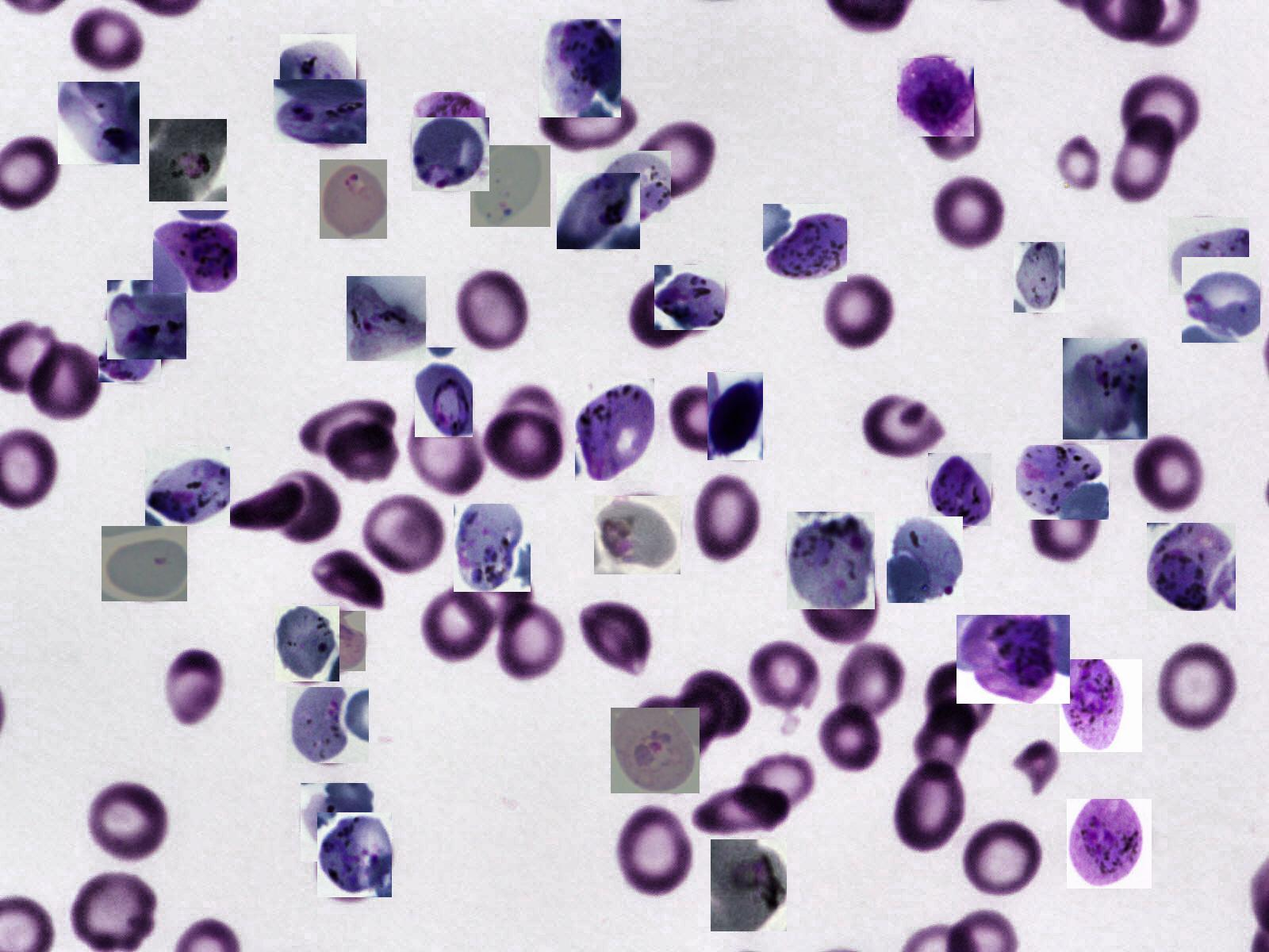Infected: (957, 615, 1070, 704), (1063, 338, 1148, 440), (787, 512, 875, 609), (575, 378, 654, 481), (539, 19, 621, 117), (1147, 523, 1236, 611), (1067, 799, 1152, 889), (1060, 659, 1142, 752), (611, 708, 700, 793), (711, 839, 788, 931), (1016, 445, 1109, 520), (153, 210, 237, 293), (594, 496, 681, 574), (454, 504, 531, 592), (58, 82, 140, 164), (145, 447, 230, 526), (347, 276, 426, 361), (1182, 257, 1260, 343), (887, 516, 963, 603), (470, 145, 550, 227), (764, 204, 847, 282), (149, 119, 227, 202), (102, 526, 187, 601), (317, 812, 392, 897), (1168, 217, 1249, 295), (287, 687, 370, 763), (557, 173, 640, 249), (107, 280, 186, 359), (897, 58, 974, 136), (281, 34, 357, 113), (274, 79, 366, 144), (301, 783, 375, 862), (412, 118, 489, 192), (413, 92, 485, 167), (596, 151, 671, 223), (320, 159, 387, 239), (415, 347, 473, 437), (707, 372, 763, 460), (275, 606, 339, 681), (654, 265, 725, 330), (928, 453, 991, 526), (290, 611, 366, 671), (98, 321, 161, 382), (1014, 243, 1065, 313)
Uninfected: (481, 387, 567, 484), (1154, 638, 1239, 735), (1118, 71, 1206, 163), (613, 801, 694, 900), (406, 402, 488, 499), (888, 758, 966, 856), (531, 83, 637, 155), (629, 121, 724, 200), (360, 492, 446, 577), (960, 817, 1045, 902), (85, 778, 167, 864), (689, 470, 764, 564), (453, 266, 531, 354), (924, 171, 1009, 251), (1130, 431, 1208, 516), (416, 575, 493, 661), (73, 873, 156, 949), (1110, 114, 1179, 205), (27, 340, 106, 419), (821, 270, 897, 351), (577, 598, 658, 674), (861, 387, 950, 456), (636, 689, 725, 758), (497, 599, 567, 686), (746, 637, 821, 718), (268, 468, 343, 547), (834, 643, 903, 726), (455, 557, 535, 628), (803, 567, 877, 642), (626, 274, 698, 351), (915, 691, 979, 777), (928, 658, 995, 740), (1026, 486, 1100, 560), (301, 397, 395, 455), (736, 752, 815, 821), (66, 2, 146, 70), (308, 551, 388, 619), (694, 781, 787, 836), (682, 670, 754, 739), (162, 649, 227, 725), (918, 83, 983, 155), (669, 385, 739, 451), (323, 417, 395, 481), (819, 699, 883, 768), (228, 478, 305, 532)
